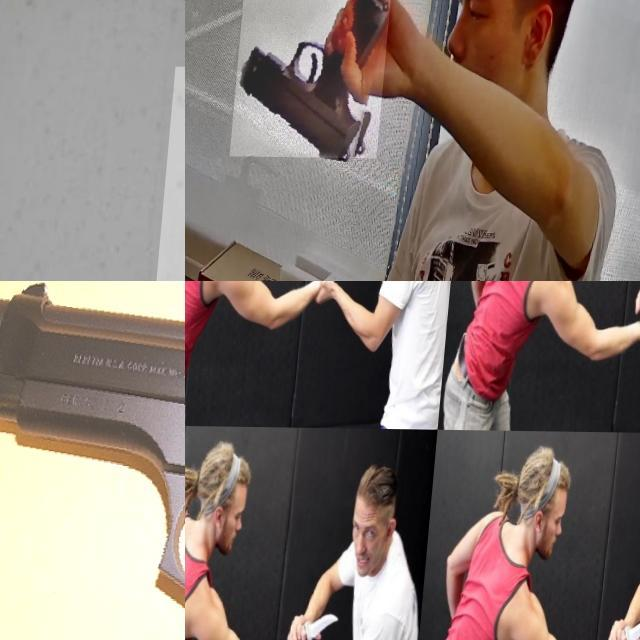-: (295, 605, 350, 640), (316, 281, 375, 302), (615, 608, 640, 640)
gun-knife-thesis - v11 Yolov5 augmented: (0, 281, 185, 640), (236, 0, 397, 157)
